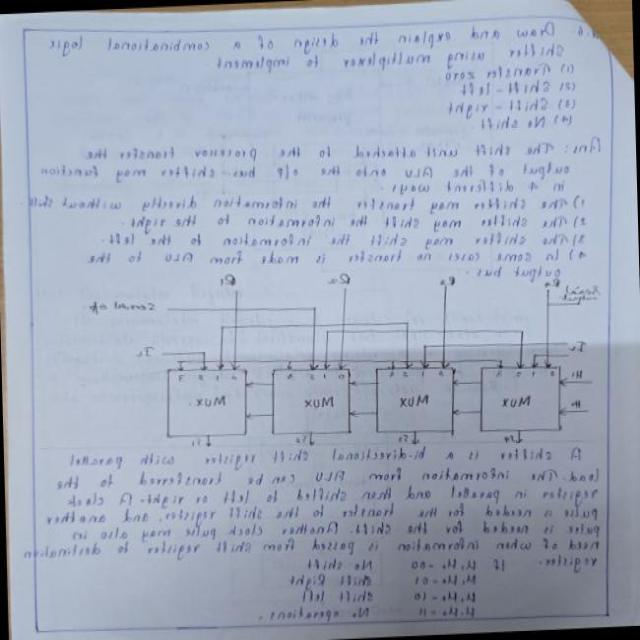Figure Detection - v3 Dataset Version2: (68, 250, 607, 473)
